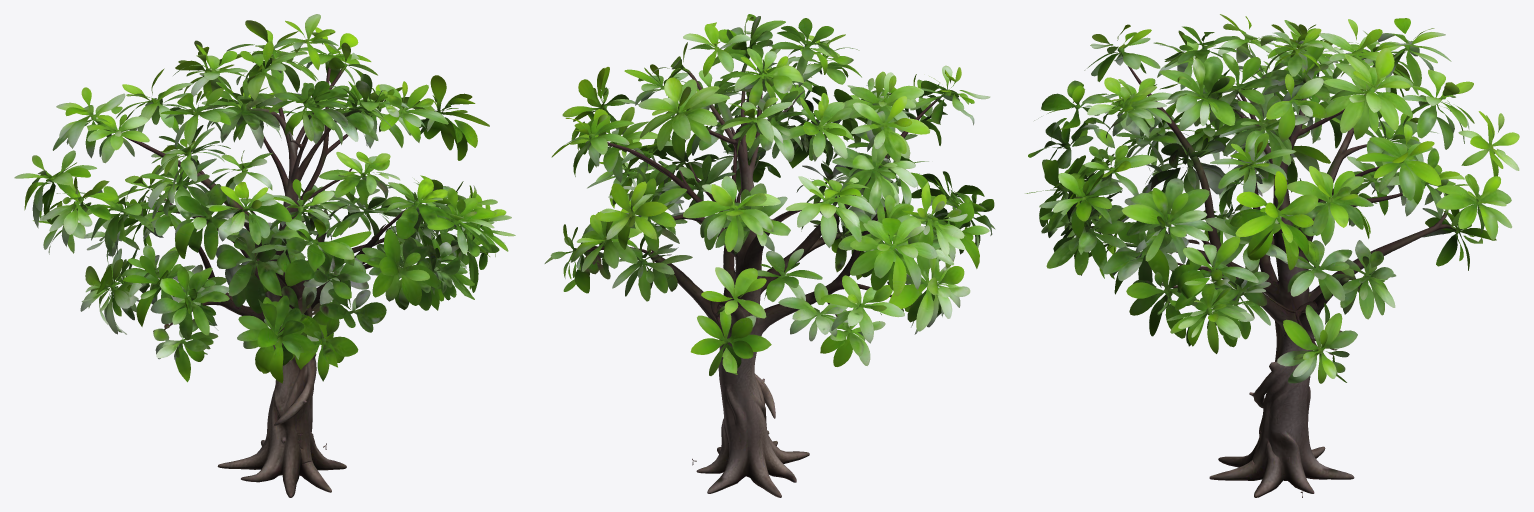
File: Arbolito_3.glb
3 views of the same model, side by side, from view 1: azimuth 30°, elevation 25°; view 2: azimuth 150°, elevation 25°; view 3: azimuth 270°, elevation 25° (orthographic). The views are drawn at different scales.
Visible parts, largest first — view 1: tripo_node_509b7f40-ab93-4a85-b29b-046f9ca49180; view 2: tripo_node_509b7f40-ab93-4a85-b29b-046f9ca49180; view 3: tripo_node_509b7f40-ab93-4a85-b29b-046f9ca49180.
Part boxes in pixels (x1,y1,x2,y2): tripo_node_509b7f40-ab93-4a85-b29b-046f9ca49180: (14, 14, 515, 497); tripo_node_509b7f40-ab93-4a85-b29b-046f9ca49180: (544, 14, 995, 497); tripo_node_509b7f40-ab93-4a85-b29b-046f9ca49180: (1025, 14, 1519, 497).
Size of the model in its own units: 0.9995 by 0.9995 by 0.9897.
1 material, 1 textured.
